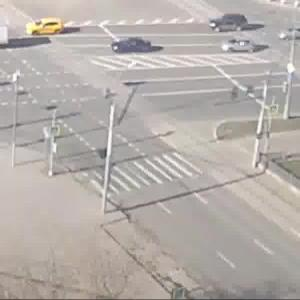car: (111, 33, 155, 59), (210, 13, 254, 36), (26, 17, 70, 39), (225, 38, 257, 55), (279, 27, 300, 44)
